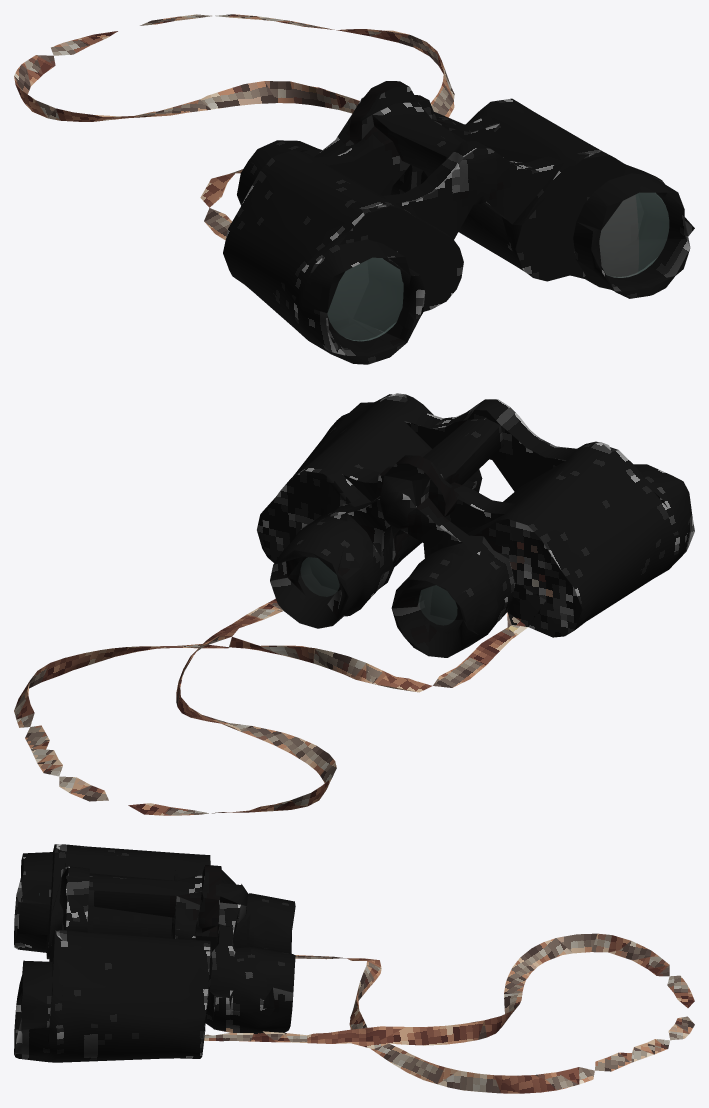
Rendered from binoculars.glb.
3 views of the same model, one above another, from view 1: azimuth 30°, elevation 25°; view 2: azimuth 150°, elevation 25°; view 3: azimuth 270°, elevation 25° (orthographic). The views are drawn at different scales.
Parts seen in each view (by area): view 1: body, glass; view 2: body, glass; view 3: body.
Part boxes in pixels (x1,y1,x2,y2): body: (14,14,694,364); glass: (327,193,668,341); body: (14,393,694,815); glass: (300,557,457,625); body: (14,844,694,1093).
Size of the model in its own units: 0.1724 by 0.0662 by 0.2979.
2 materials, 2 textured.
